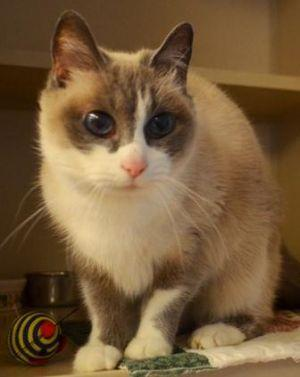ragdoll: (33, 4, 209, 212)
